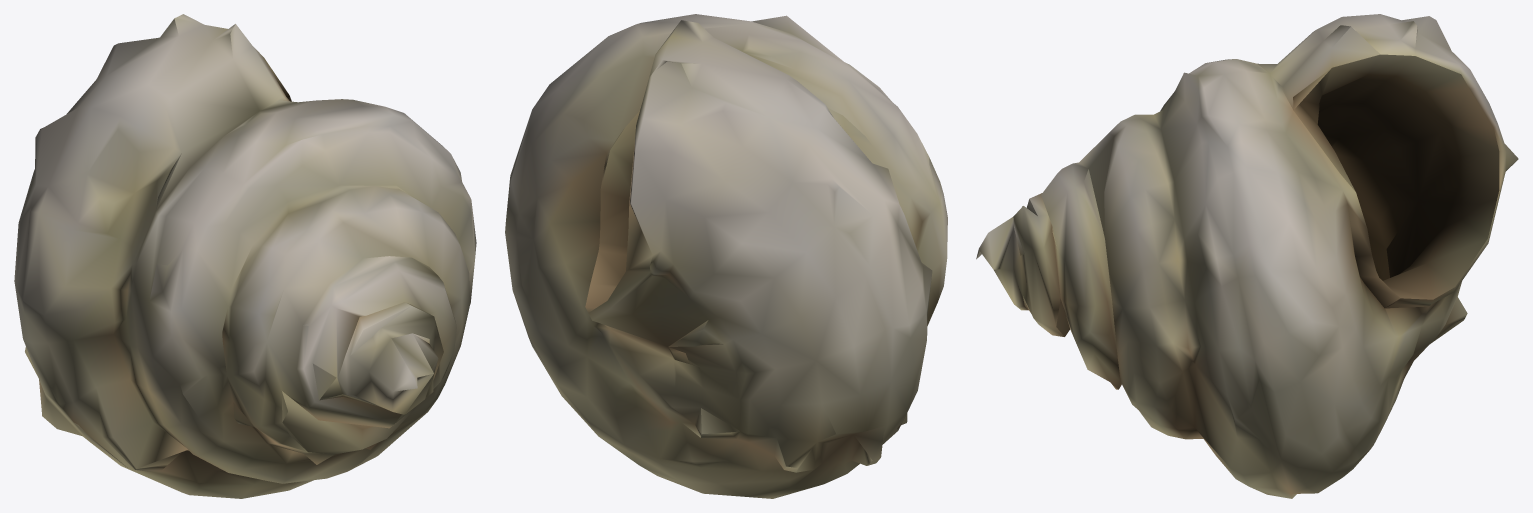
Rendered from underwater-shells-whelk-shell_v3.glb.
3 renders of one model, left to right at view 1: azimuth 30°, elevation 25°; view 2: azimuth 150°, elevation 25°; view 3: azimuth 270°, elevation 25°, orthographic. The views are drawn at different scales.
Visible parts, largest first — view 1: Whelk Shell_v3; view 2: Whelk Shell_v3; view 3: Whelk Shell_v3.
Boxes of the visible parts, box(x1,y1,x2,y2) form: Whelk Shell_v3: box(14, 14, 476, 498); Whelk Shell_v3: box(505, 14, 947, 498); Whelk Shell_v3: box(976, 14, 1518, 498).
Bounding box in the file's own units: 0.0697 × 0.0739 × 0.08.
